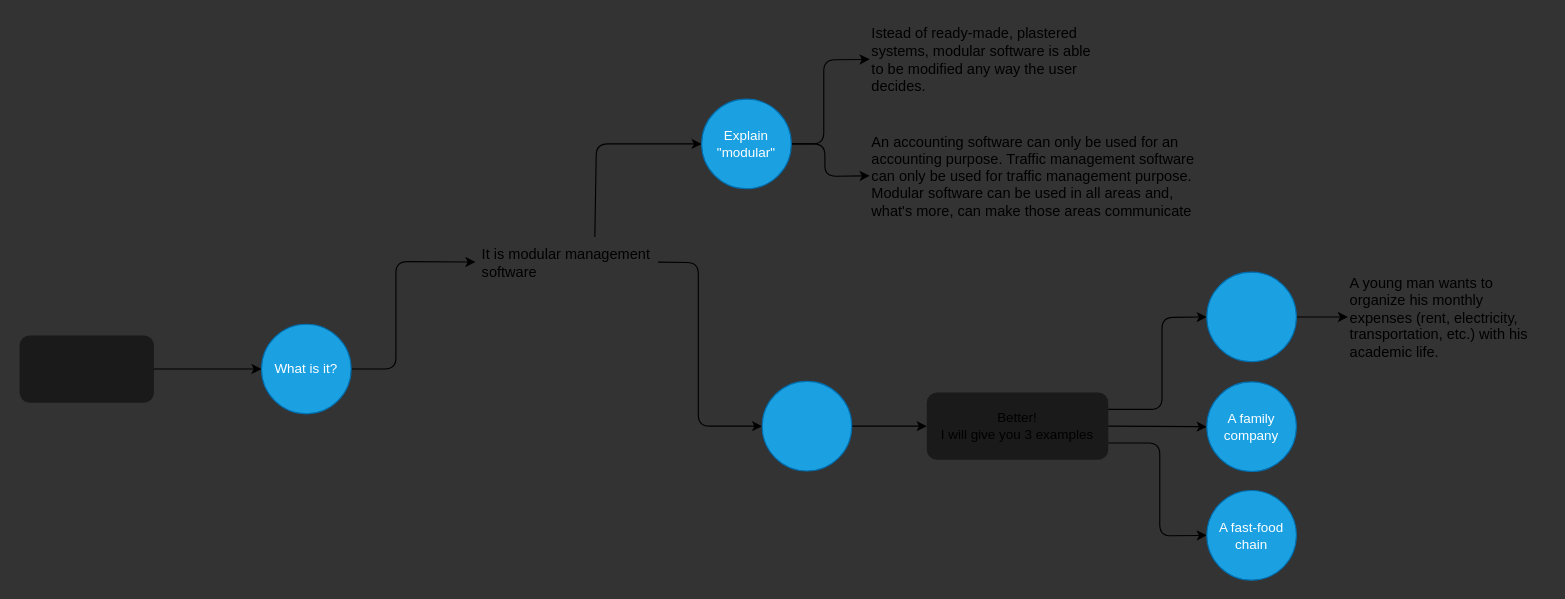
Some shapes in this 1565 by 599 pixel diagram are drawn without their labels. The shapes that lost their labels are listed below. From the top down, each one's box as (x1, y1, x2, y2) in pixels, then its label:
(1206, 271, 1296, 362): An organized guy
(19, 335, 153, 402): MOFIMA
(761, 380, 852, 471): A pratical example
